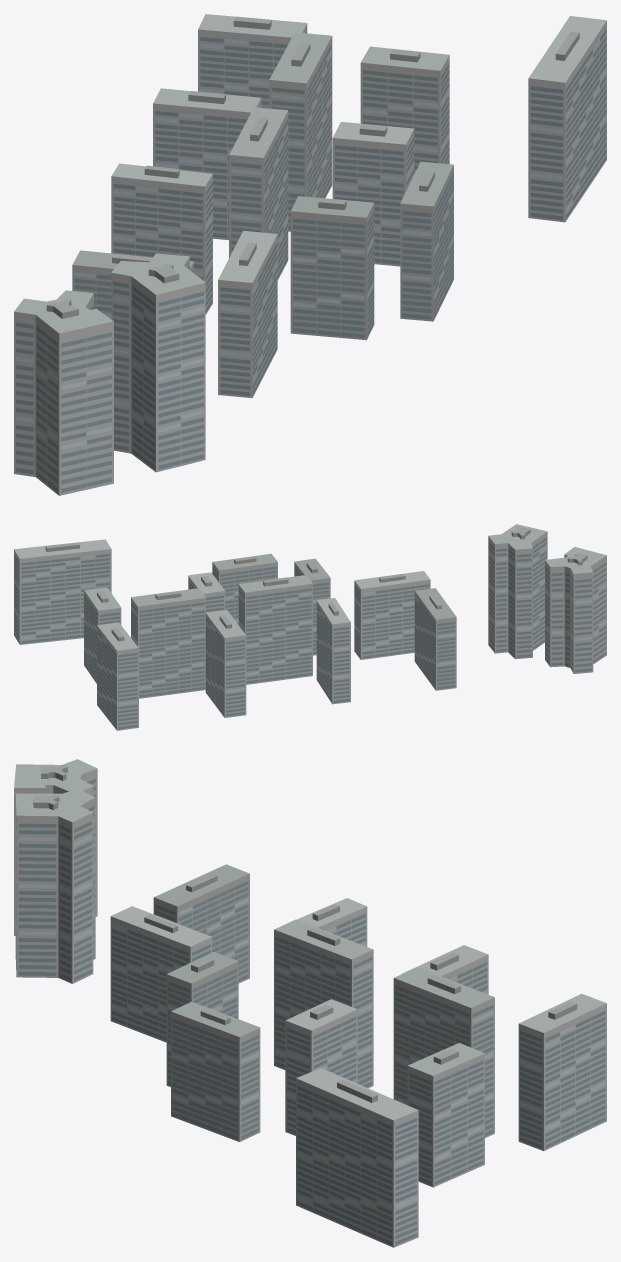
File: apt-a15205511.glb
The picture shows the model from 3 angles, top to bottom: view 1: azimuth 30°, elevation 25°; view 2: azimuth 150°, elevation 25°; view 3: azimuth 270°, elevation 25°; orthographic projection. The views are drawn at different scales.
Parts seen in each view (by area): view 1: apt-a15205511; view 2: apt-a15205511; view 3: apt-a15205511.
Part boxes in pixels (left/top/right/bottom): apt-a15205511: left=14, top=14, right=606, bottom=495; apt-a15205511: left=14, top=524, right=606, bottom=730; apt-a15205511: left=14, top=759, right=606, bottom=1247.
Size of the model in its own units: 319 by 73 by 235.
